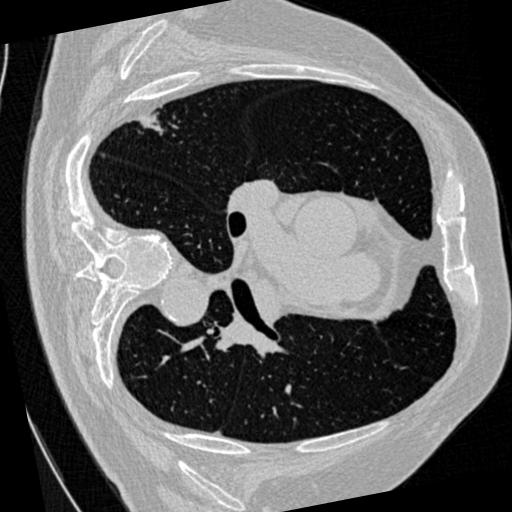nodule: (139, 112, 161, 134)
